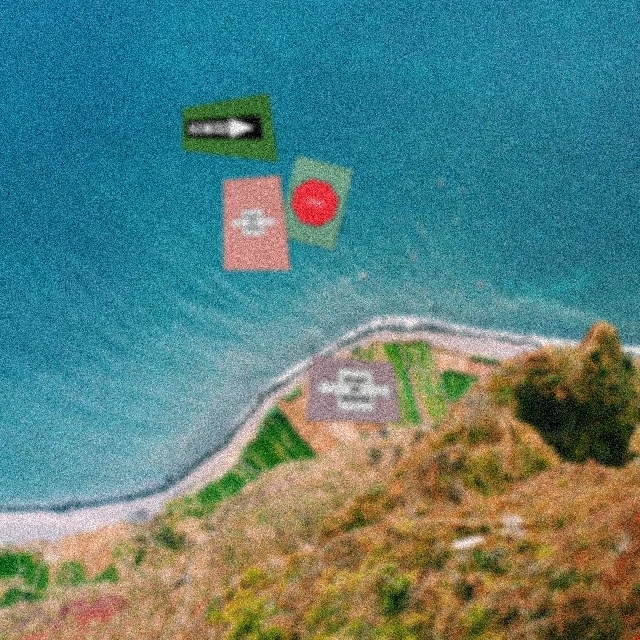DO_NOT_GO_AROUND: (314, 366, 396, 413), (230, 208, 278, 236)
ONE_WAY_ right: (182, 115, 265, 141)
STOP: (288, 175, 342, 230)
